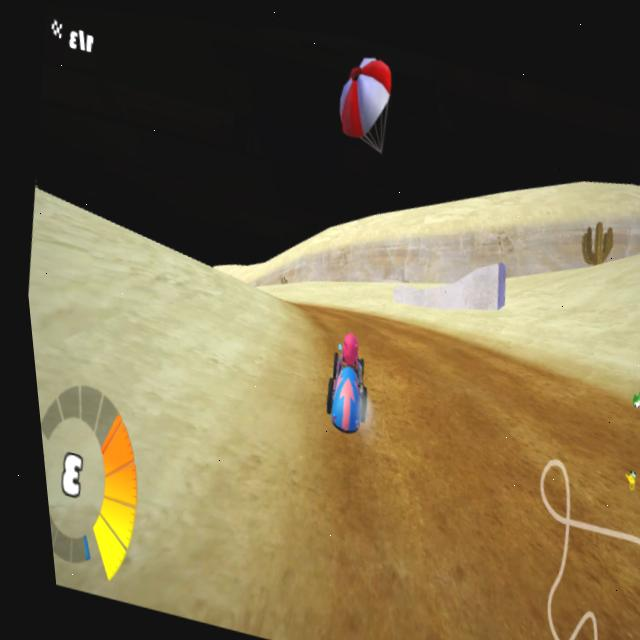off_track: (282, 171, 620, 355), (15, 194, 290, 411)
player_kart: (307, 320, 376, 432)
track: (304, 294, 435, 349)
